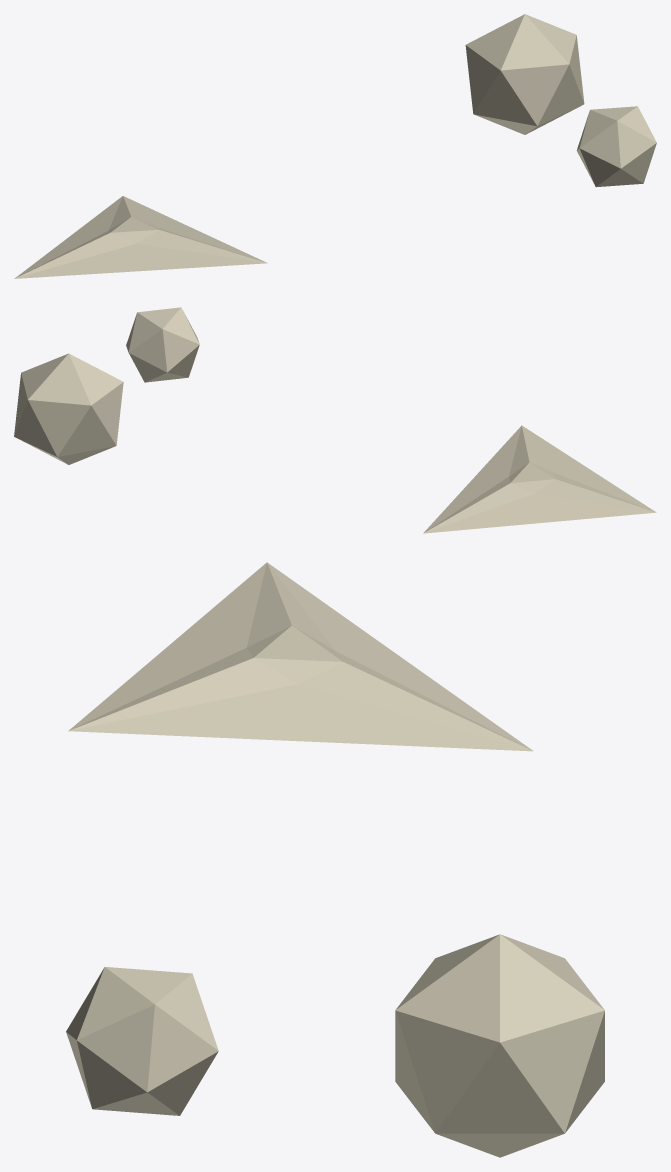
The model's file is OBJETS_Dechets_02_JAM_2024.fbx.
3 views of the same model, one above another, from view 1: azimuth 30°, elevation 25°; view 2: azimuth 150°, elevation 25°; view 3: azimuth 270°, elevation 25° (orthographic). The views are drawn at different scales.
Visible parts, largest first — view 1: Dechet; view 2: Dechet; view 3: Dechet.
Part boxes in pixels (x1,y1,x2,y2): Dechet: (14,14,656,278); Dechet: (14,307,656,533); Dechet: (66,562,604,1157).
Size of the model in its own units: 59.31 by 10.97 by 23.97.
